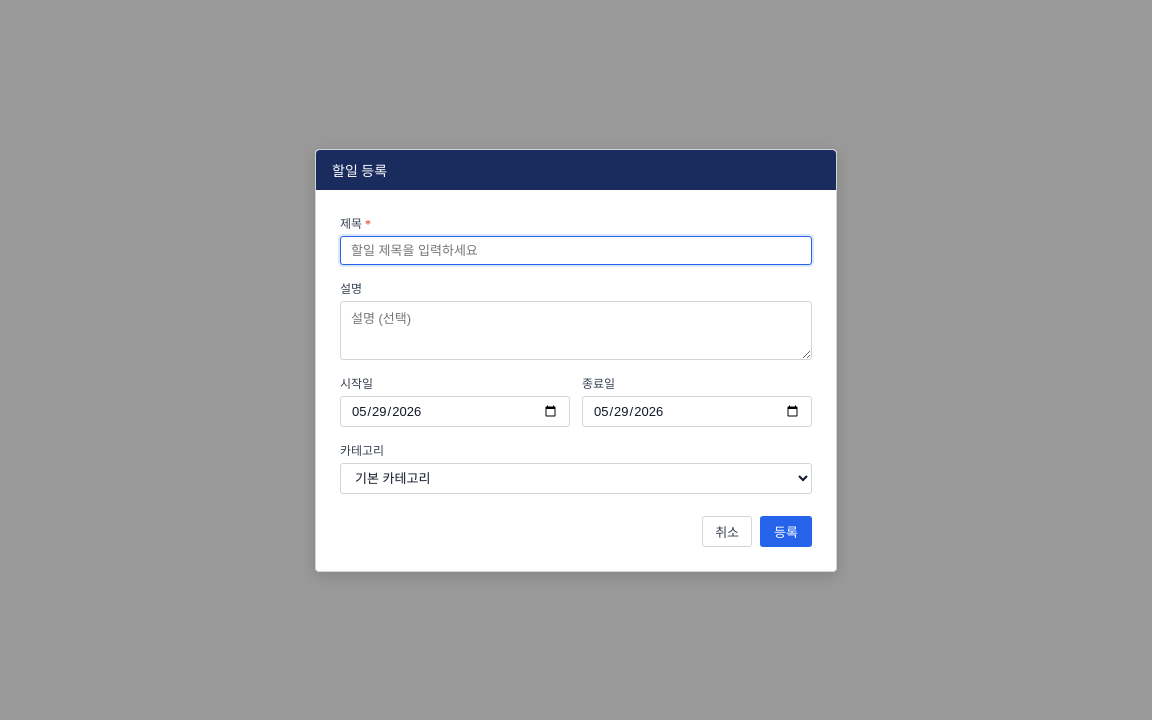
Test: TodoForm — 등록 모드 › 종료일이 시작일보다 이전이면 날짜 오류 메시지를 표시한다
Type "새 할일" into the field labelled "제목 *". click: [576, 250]
box: [340,236,812,264]
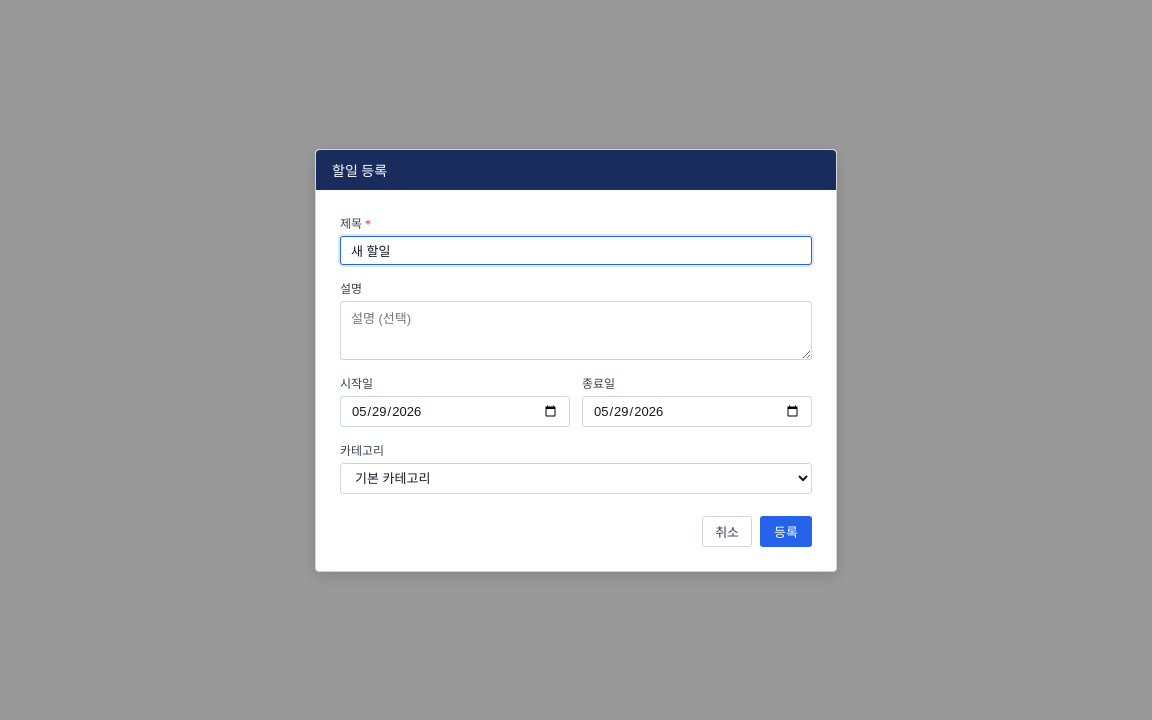
Type "2026-06-01" into the date field labelled "시작일". click: [455, 411]
box: [340,396,570,426]
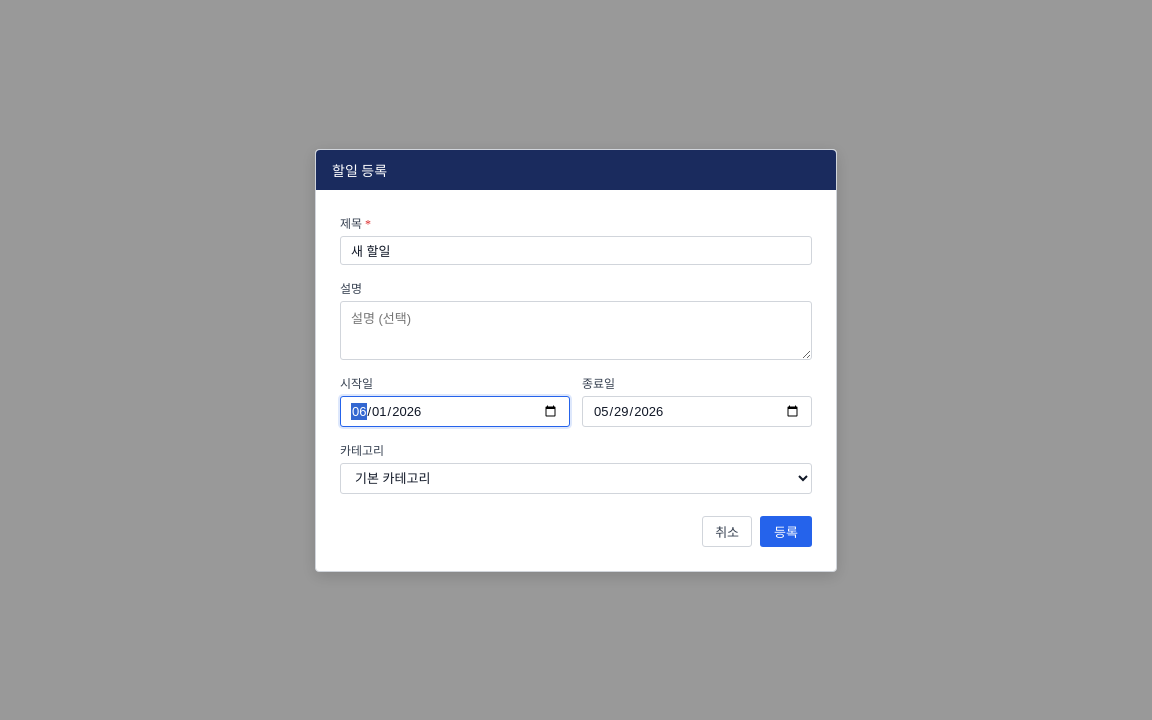
Type "2026-05-01" into the date field labelled "종료일". click: [697, 411]
box: [582,396,812,426]
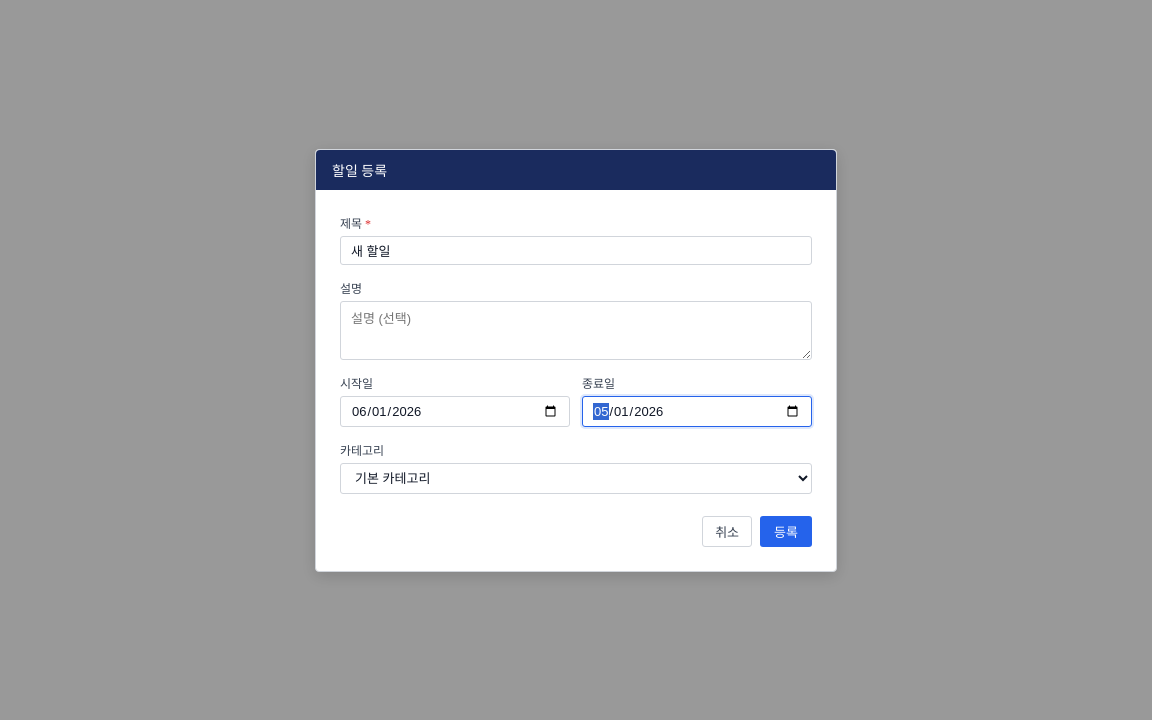
Click the button "등록". click: [786, 531]
box: [760,516,812,546]
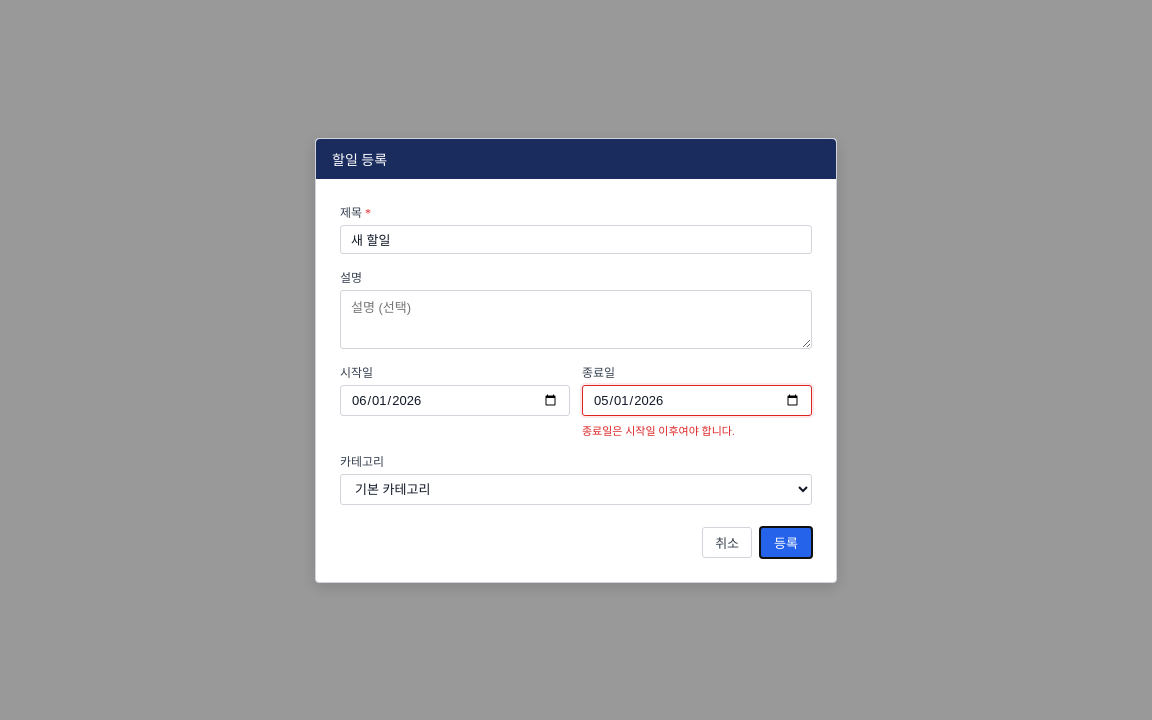
Expected: the text "종료일은 시작일 이후여야 합니다." is shown, [582,424,735,436]
